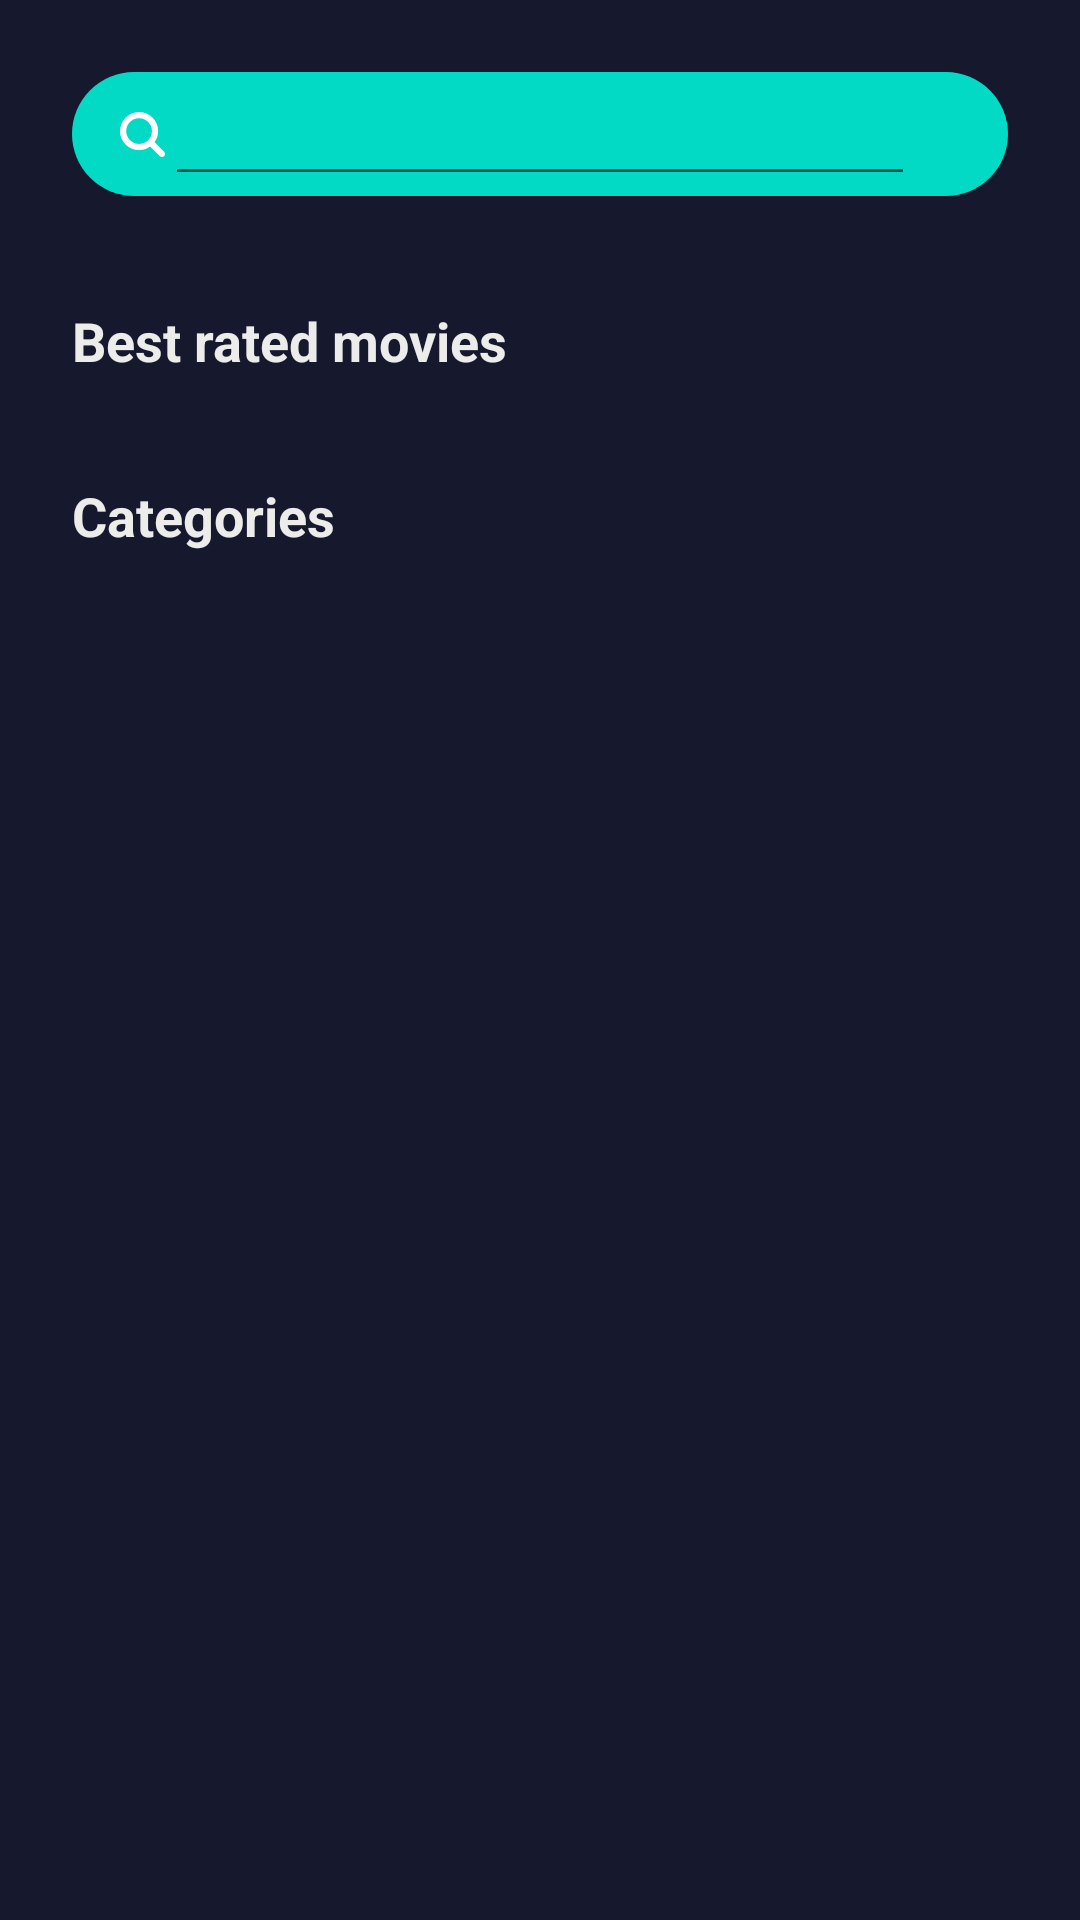

Icon bounding boxes for this 1080w x 1920h phone screenshot, format (x1, y1, x2, y2):
search: (120, 112, 165, 157)
